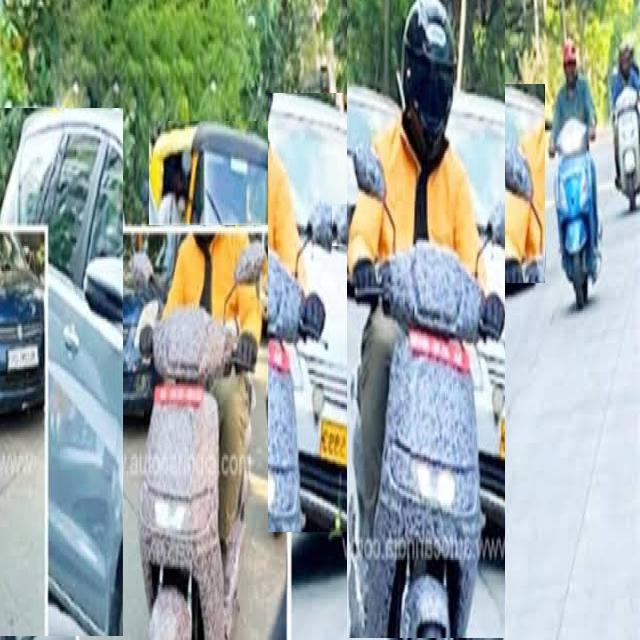autorickshaw: (149, 122, 276, 225)
car: (0, 109, 123, 636), (269, 94, 404, 532), (80, 236, 179, 417), (455, 85, 545, 283)
motorcycle: (348, 0, 505, 638), (140, 233, 264, 637), (550, 40, 598, 308), (612, 44, 640, 210), (325, 204, 368, 248), (332, 204, 366, 246)
